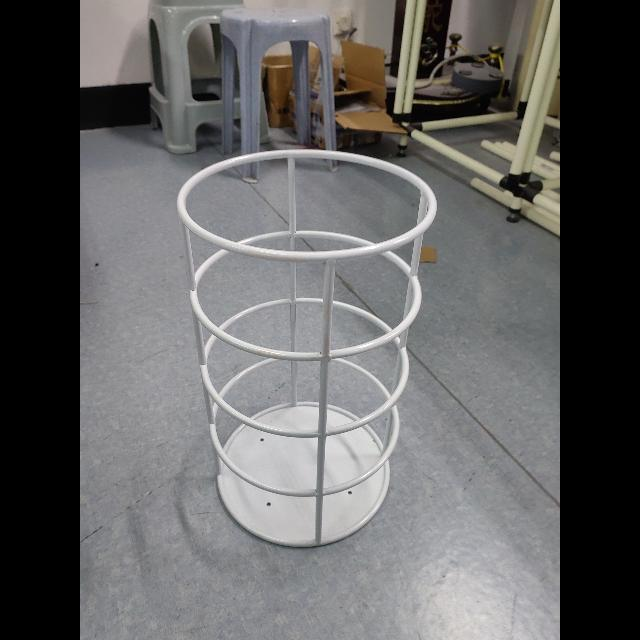S: (174, 143, 440, 551)
